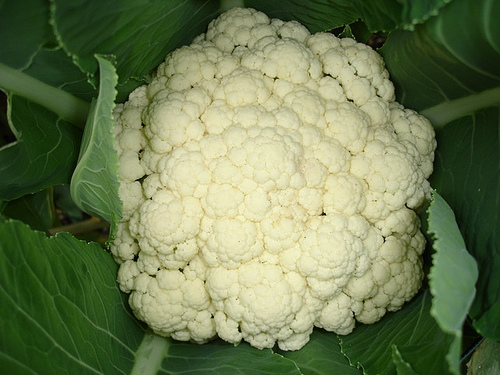cauliflower: (90, 4, 439, 353)
